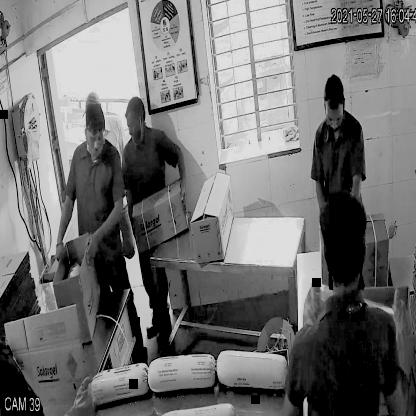no_goggles: (83, 126, 109, 149), (323, 104, 345, 128)
